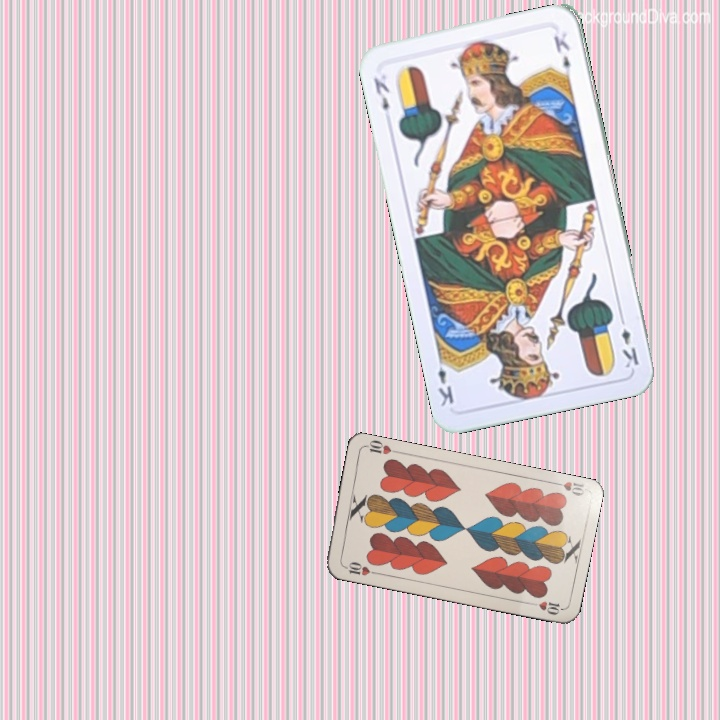EK: (615, 311, 642, 371), (369, 73, 392, 114)
H10: (548, 477, 587, 499), (338, 558, 379, 578)
